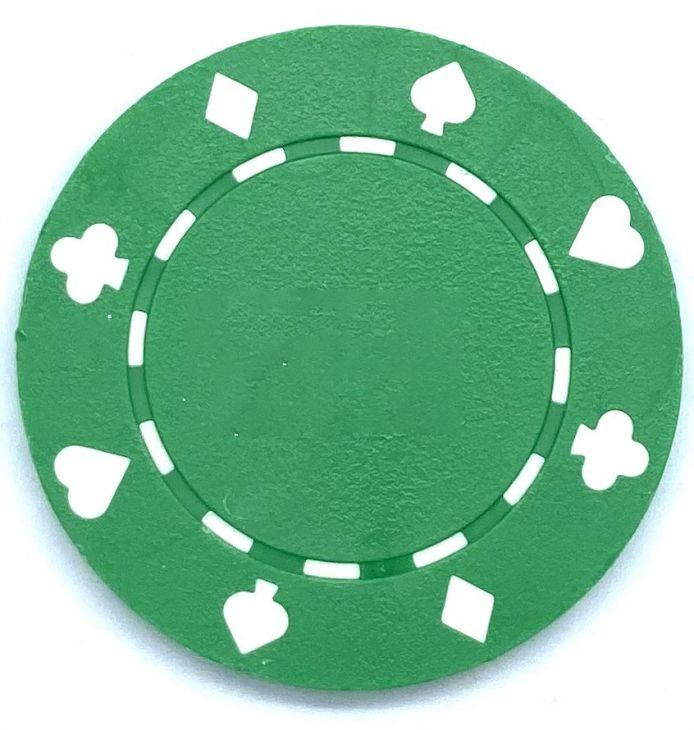chip-green: (17, 27, 682, 689)
